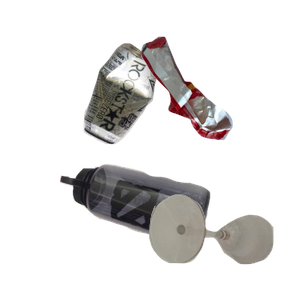glass: (147, 192, 300, 300)
metal: (81, 41, 234, 178)
plastic: (58, 162, 261, 300)
trash: (139, 34, 300, 167)
